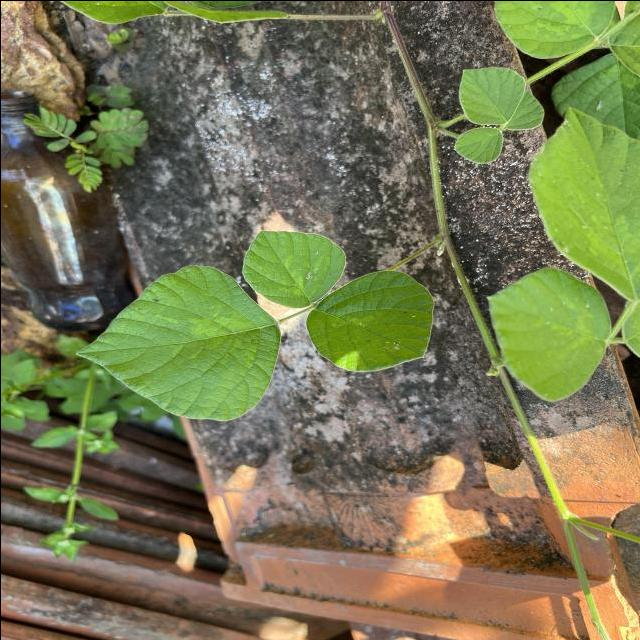Pseudarthria viscida: (73, 227, 436, 422)
